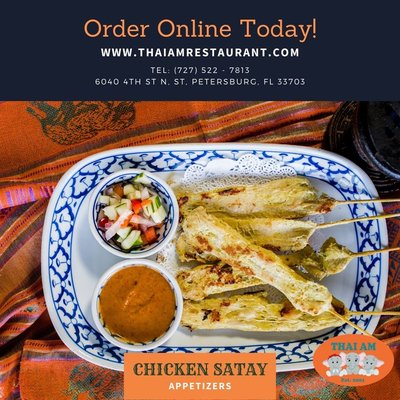sushi: (90, 259, 184, 350), (87, 170, 180, 260)
